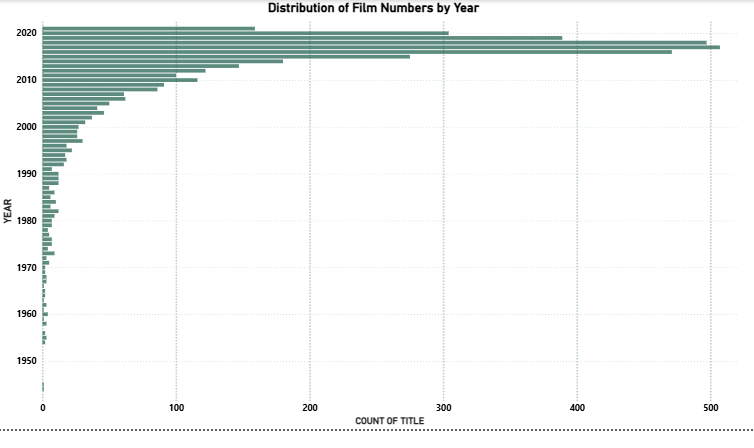

What the dashboard file says about the page in this screenshot:
{"tool":"powerbi","page":{"name":"Page 1","canvas":[1280,720],"ordinal":0},"visuals":[{"type":"barChart","title":"Distribution of Film Numbers by Year","fields":{"Category":["netflix_imdb_merged.year"],"Y":["CountNonNull(netflix_imdb_merged.title)"]},"box":[10.1,0,1258.2,720.6],"z":0}]}

Visuals, with their boxes on the page's 1280x720 design canvas (x1, y1, x2, y2). These are canvas units, not pixel positions in the 754x448 screenshot, which may show the page scaled, cropped or inside an application window:
"Distribution of Film Numbers by Year" barChart: [10,0,1268,721]
